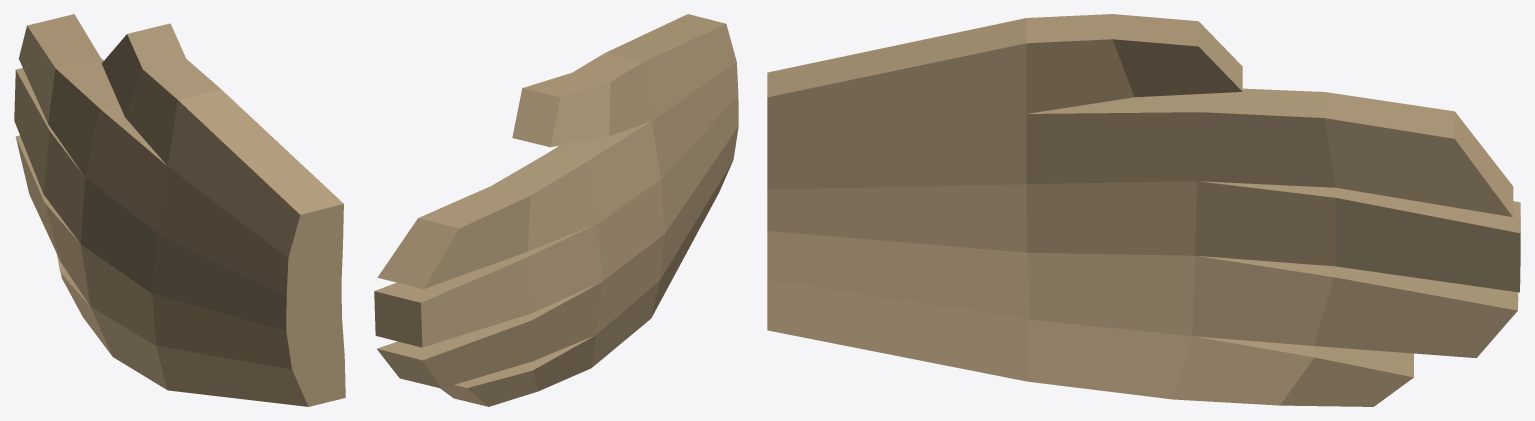
The model's file is lefthand.fbx.
The picture shows the model from 3 angles, left to right: view 1: azimuth 30°, elevation 25°; view 2: azimuth 150°, elevation 25°; view 3: azimuth 270°, elevation 25°; orthographic projection. The views are drawn at different scales.
Parts seen in each view (by area): view 1: Cube; view 2: Cube; view 3: Cube.
Boxes of the visible parts, x1,y1,x2,y2 form: Cube: [14, 14, 345, 406]; Cube: [374, 14, 738, 406]; Cube: [767, 14, 1520, 406].
Bounding box in the file's own units: 285 × 680 × 1259.
